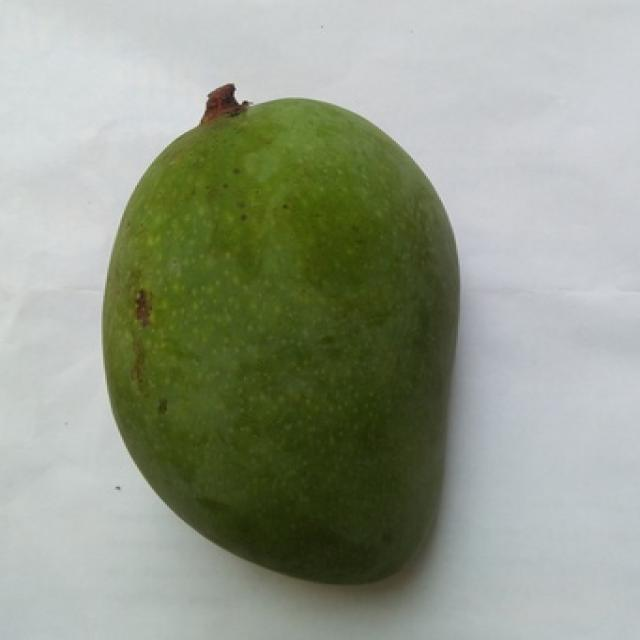Mango: (103, 99, 458, 582)
